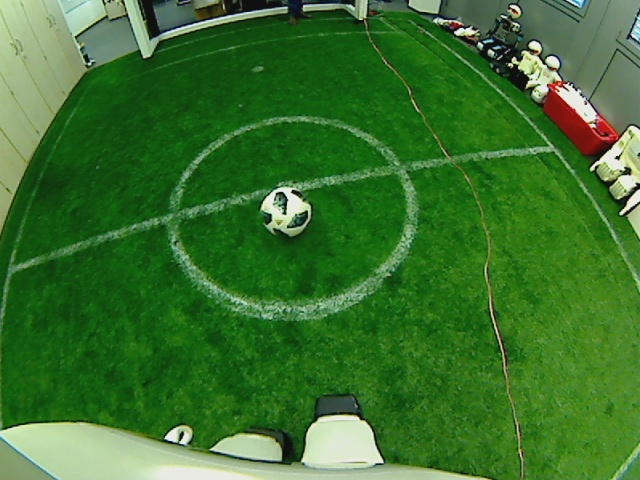ball: (258, 185, 311, 236)
